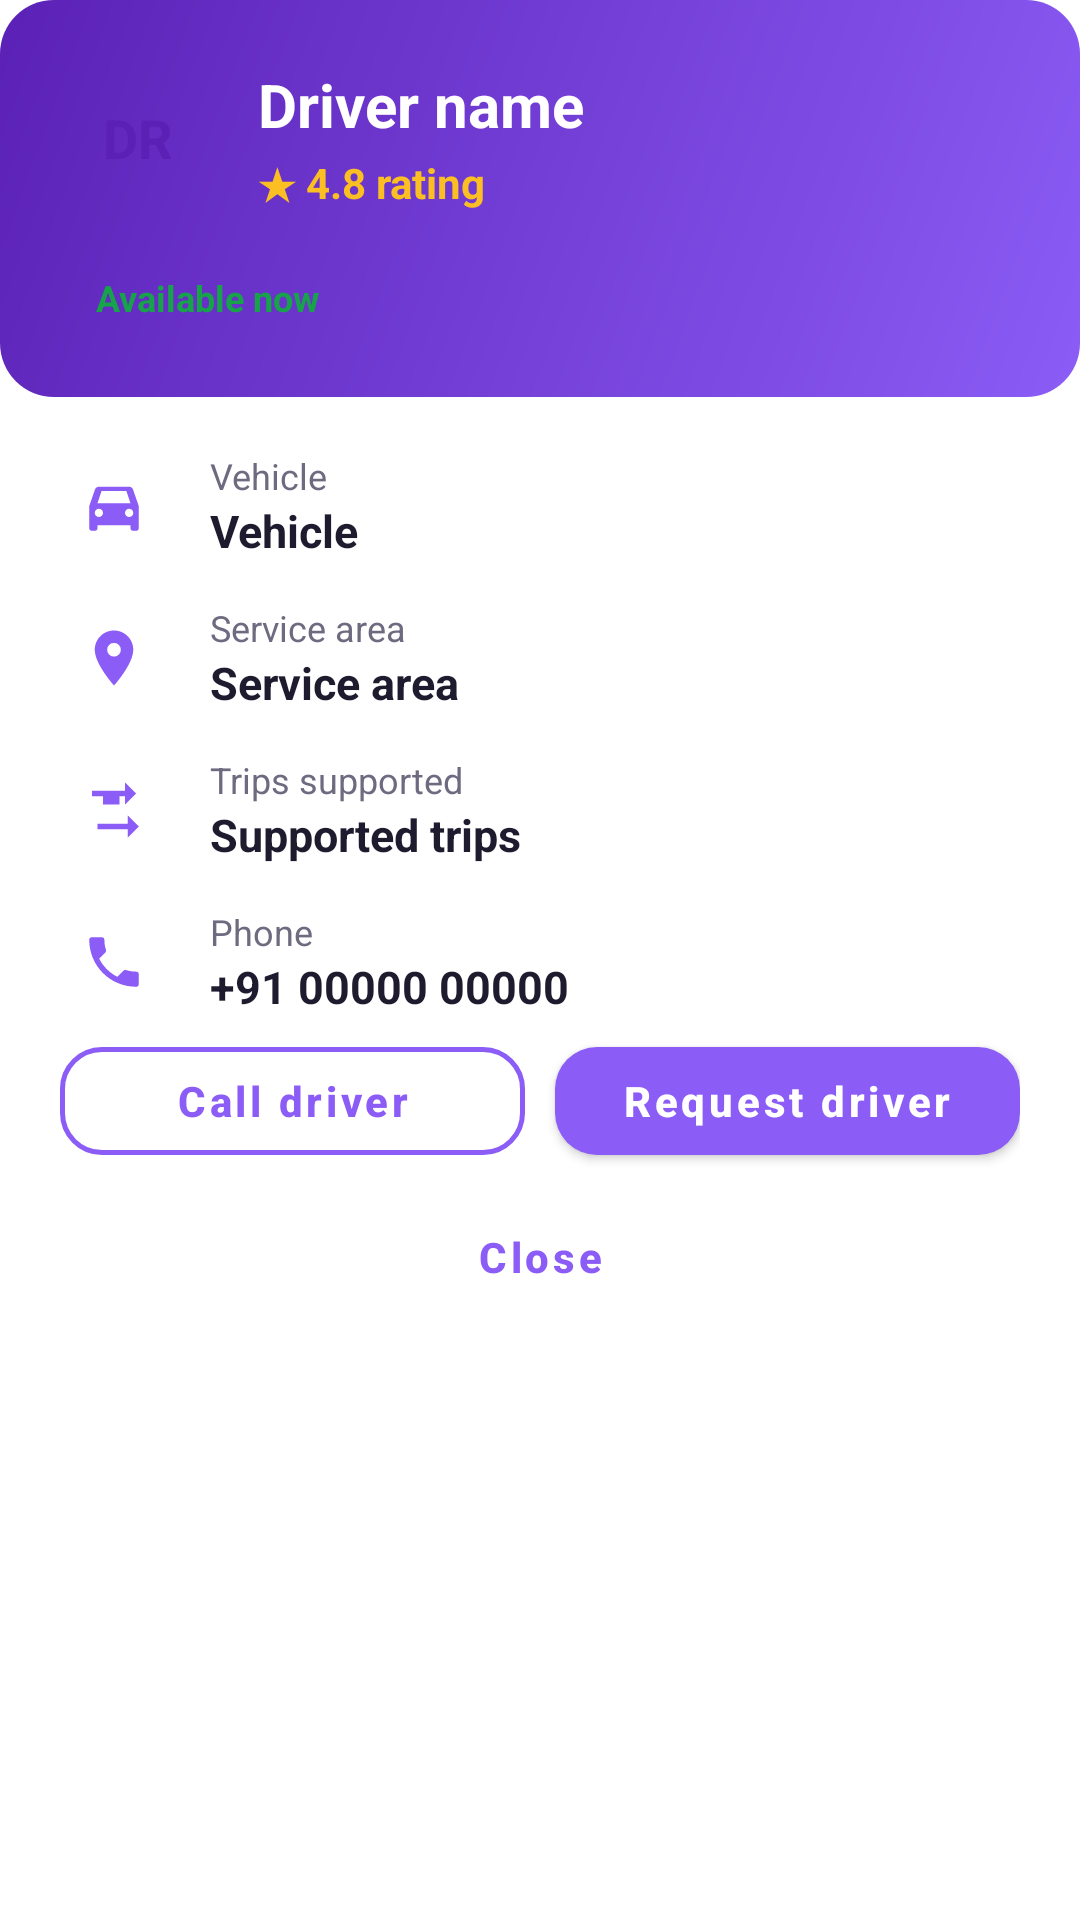

Icon click points for this 1080w x 1920h phone screenshot, format [x,y]:
car: [114,508]
place: [114,657]
route: [115,809]
